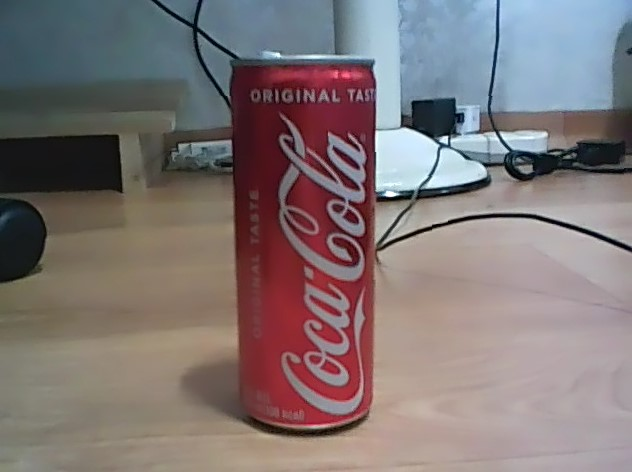Can: (225, 52, 382, 438)
